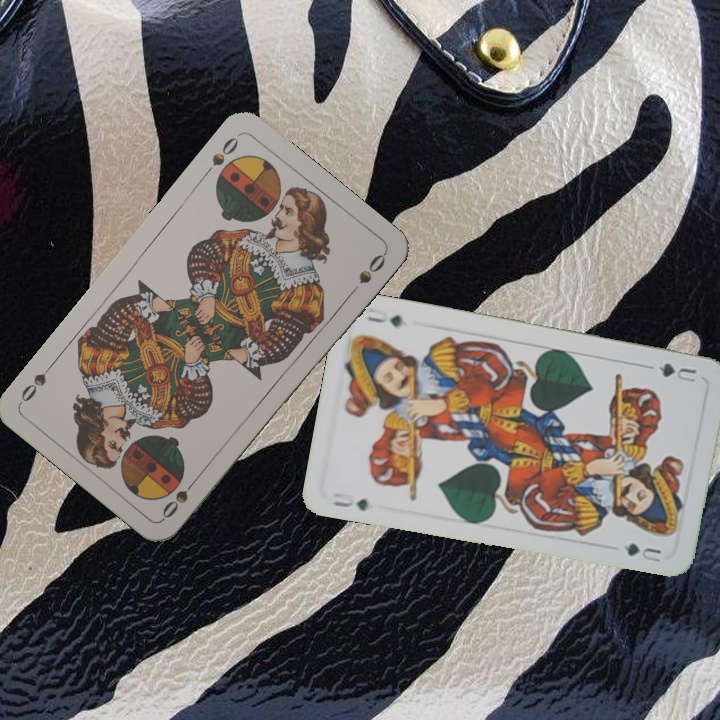GU: (653, 359, 699, 385), (329, 488, 371, 514)
SO: (158, 472, 202, 521), (199, 131, 242, 180)
